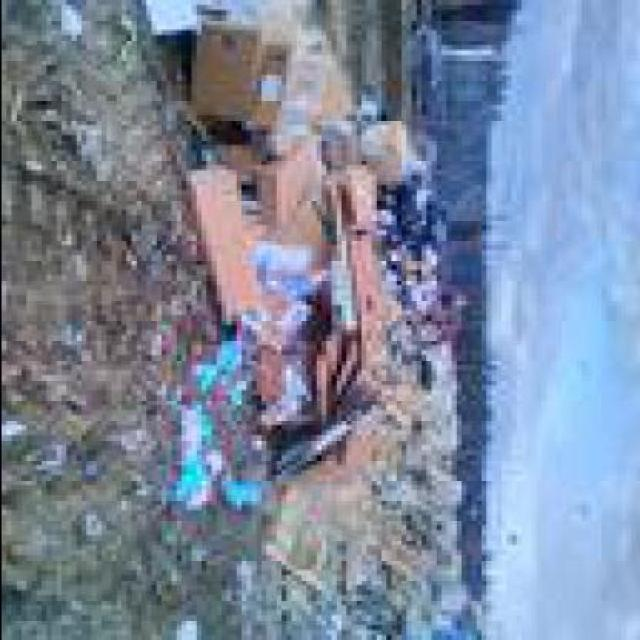CARDBOARD: (190, 164, 265, 324), (186, 20, 274, 131), (264, 455, 336, 590), (285, 29, 360, 140), (250, 25, 315, 150), (335, 494, 410, 594), (275, 174, 340, 286), (244, 270, 316, 365), (336, 125, 416, 200), (314, 430, 386, 505), (270, 155, 325, 240), (354, 235, 386, 380), (220, 140, 275, 215), (320, 326, 360, 426), (256, 346, 296, 434), (376, 416, 416, 496), (340, 164, 380, 236), (360, 376, 425, 416), (150, 5, 210, 44), (335, 216, 350, 336)
